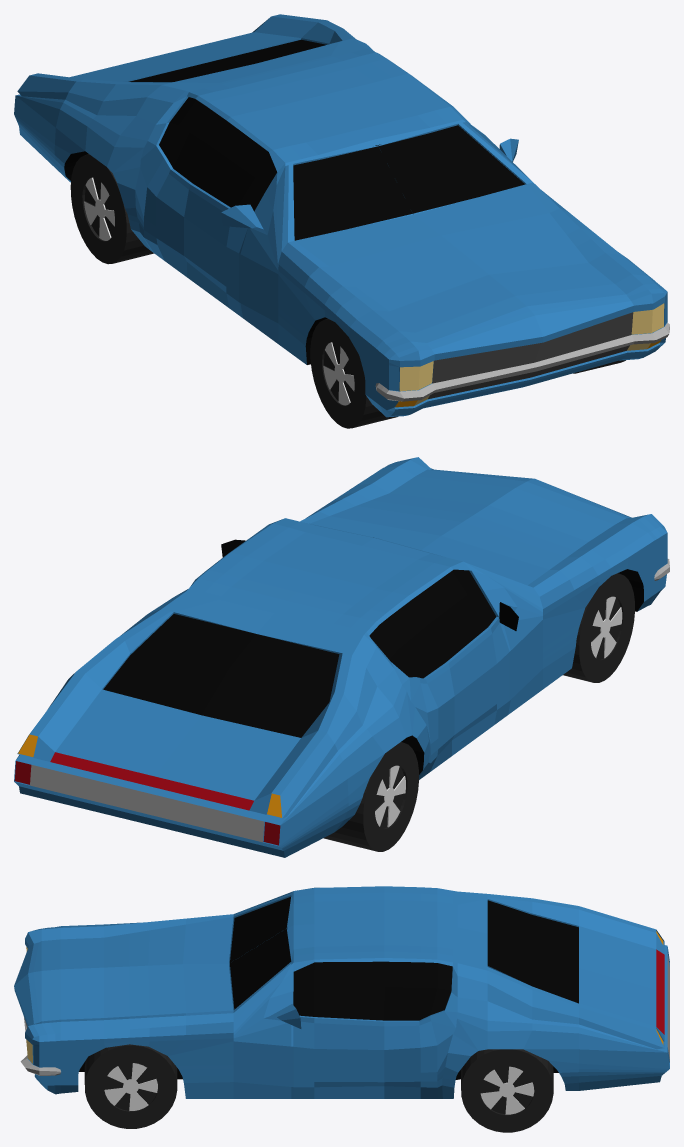
File: car-Buic.fbx
3 renders of one model, top to bottom at view 1: azimuth 30°, elevation 25°; view 2: azimuth 150°, elevation 25°; view 3: azimuth 270°, elevation 25°, orthographic. The views are drawn at different scales.
Parts seen in each view (by area): view 1: Cube, Cylinder.003, Cylinder.001; view 2: Cube, Cylinder.003, Cylinder.001; view 3: Cube, Cylinder.004, Cylinder.002.
Boxes of the visible parts, box(x1,y1,x2,y2) form: Cube: box(14, 14, 669, 417); Cylinder.003: box(70, 154, 153, 264); Cylinder.001: box(310, 319, 397, 428); Cube: box(14, 457, 669, 857); Cylinder.003: box(323, 742, 418, 851); Cylinder.001: box(563, 573, 634, 682); Cube: box(14, 886, 669, 1098); Cylinder.004: box(461, 1049, 553, 1132); Cylinder.002: box(84, 1044, 177, 1128).
Bounding box in the file's own units: 180 × 106 × 413.
